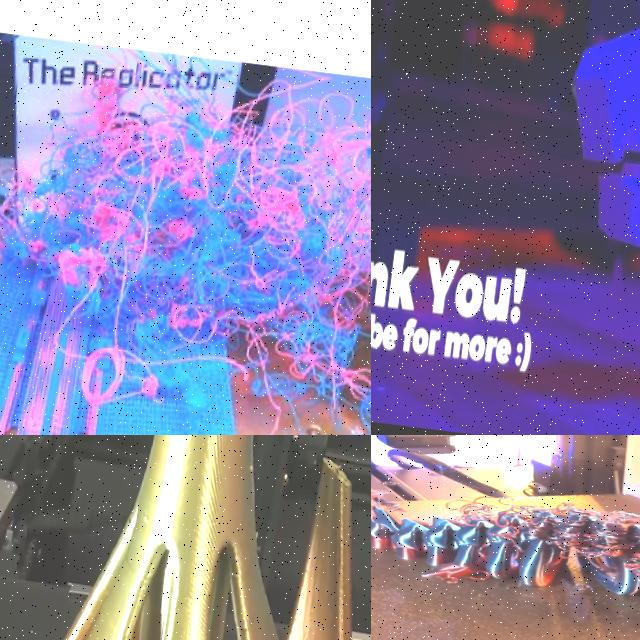spaghetti: (483, 493, 640, 610), (371, 448, 401, 519)
